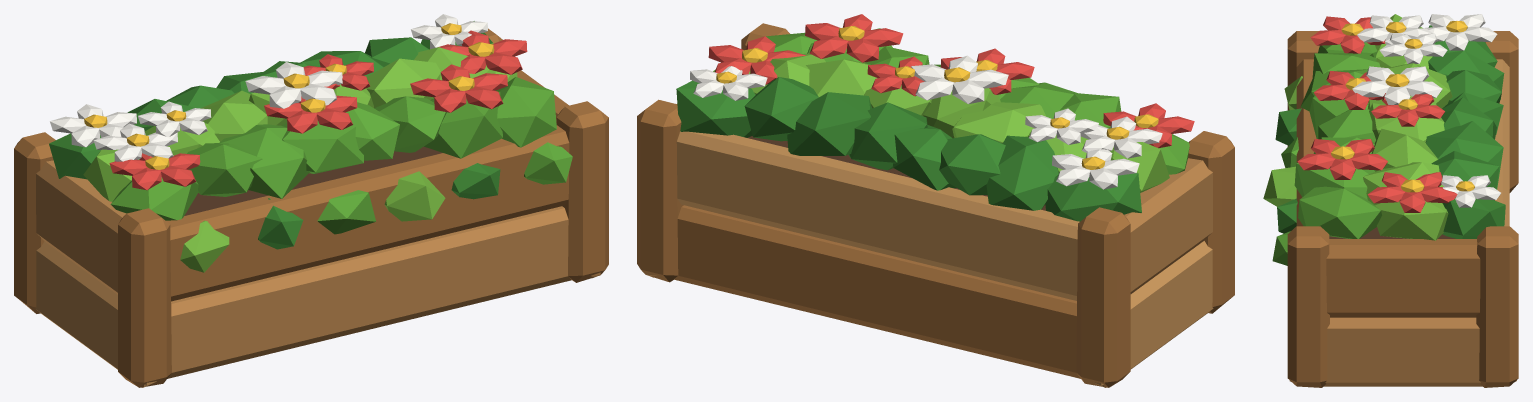
The model's file is flower_box.glb.
The picture shows the model from 3 angles, left to right: view 1: azimuth 30°, elevation 25°; view 2: azimuth 150°, elevation 25°; view 3: azimuth 270°, elevation 25°; orthographic projection. The views are drawn at different scales.
Parts seen in each view (by area): view 1: flower_box; view 2: flower_box; view 3: flower_box.
Part boxes in pixels (x1,y1,x2,y2): flower_box: (14, 14, 608, 387); flower_box: (637, 14, 1234, 387); flower_box: (1263, 14, 1518, 387).
Bounding box in the file's own units: 0.85 × 0.3822 × 0.4312.
